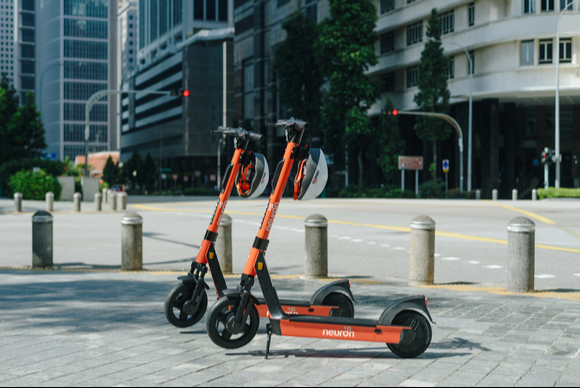scooter: (216, 115, 431, 361), (169, 124, 347, 324)
